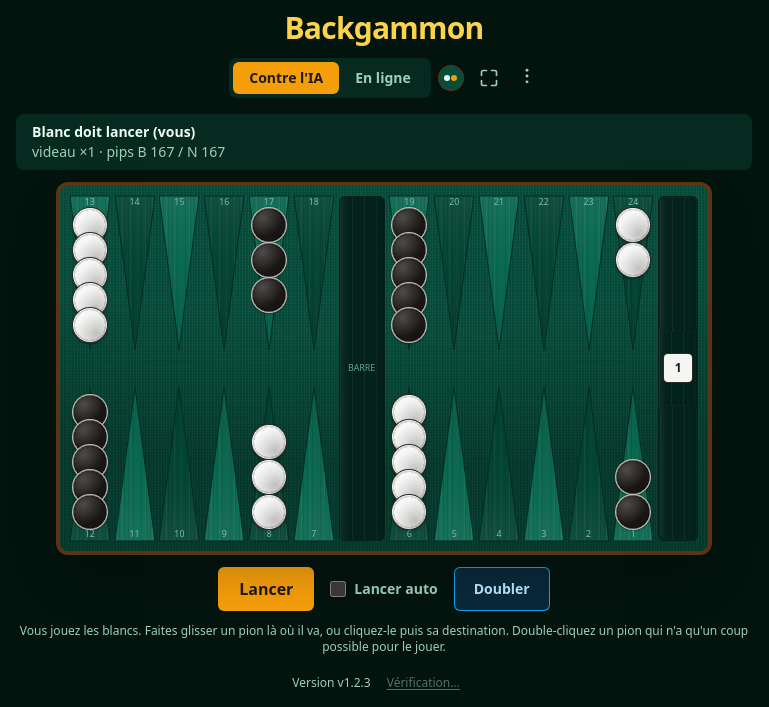
Test: the abandon-the-game action › has no menu to offer on the online "host or join" screen — there is nothing to abandon yet
What coordinates should you click on to do the following:
click the button "En ligne"
I would click on:
 (383, 78)
Its box is [339, 62, 427, 94].
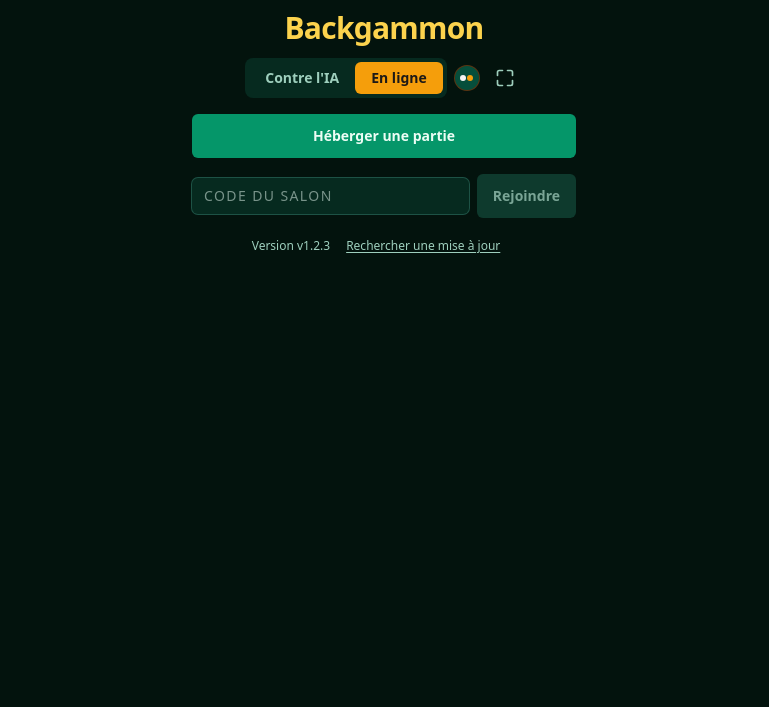
Result: the button "Actions" is gone
